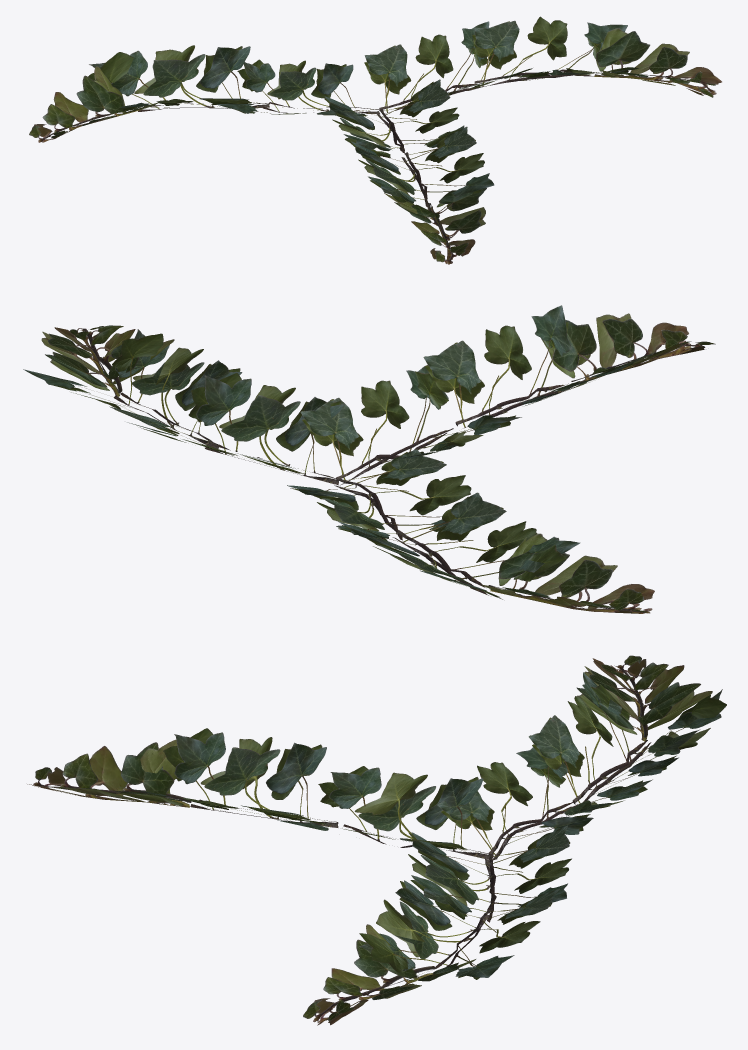
File: stumbletwine_08.fbx
The picture shows the model from 3 angles, top to bottom: view 1: azimuth 30°, elevation 25°; view 2: azimuth 150°, elevation 25°; view 3: azimuth 270°, elevation 25°; orthographic projection. The views are drawn at different scales.
Parts seen in each view (by area): view 1: stumbletwine_08; view 2: stumbletwine_08; view 3: stumbletwine_08.
Boxes of the visible parts, box(x1,y1,x2,y2) form: stumbletwine_08: box(29, 16, 721, 264); stumbletwine_08: box(23, 305, 715, 613); stumbletwine_08: box(27, 655, 726, 1025).
Size of the model in its own units: 85.17 by 105 by 7.49.
